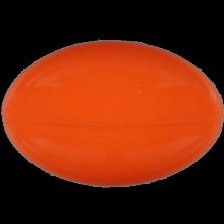23155-118: (0, 0, 224, 224)
